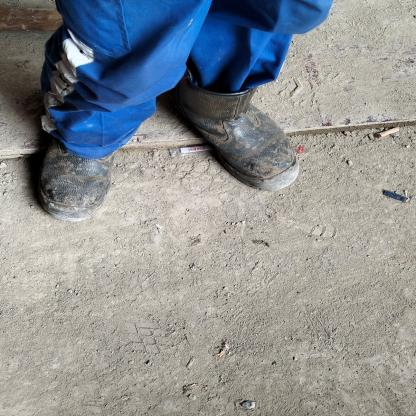bota: (172, 79, 300, 193), (30, 123, 113, 220)
